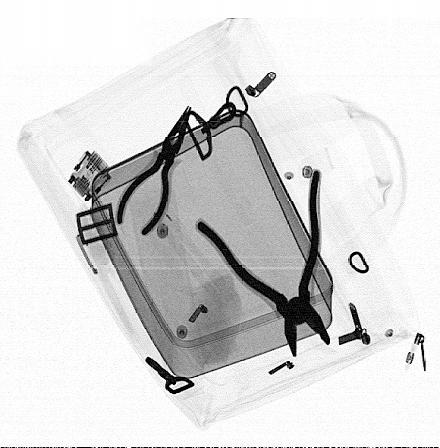Pliers: (194, 167, 333, 359), (116, 104, 193, 238)
